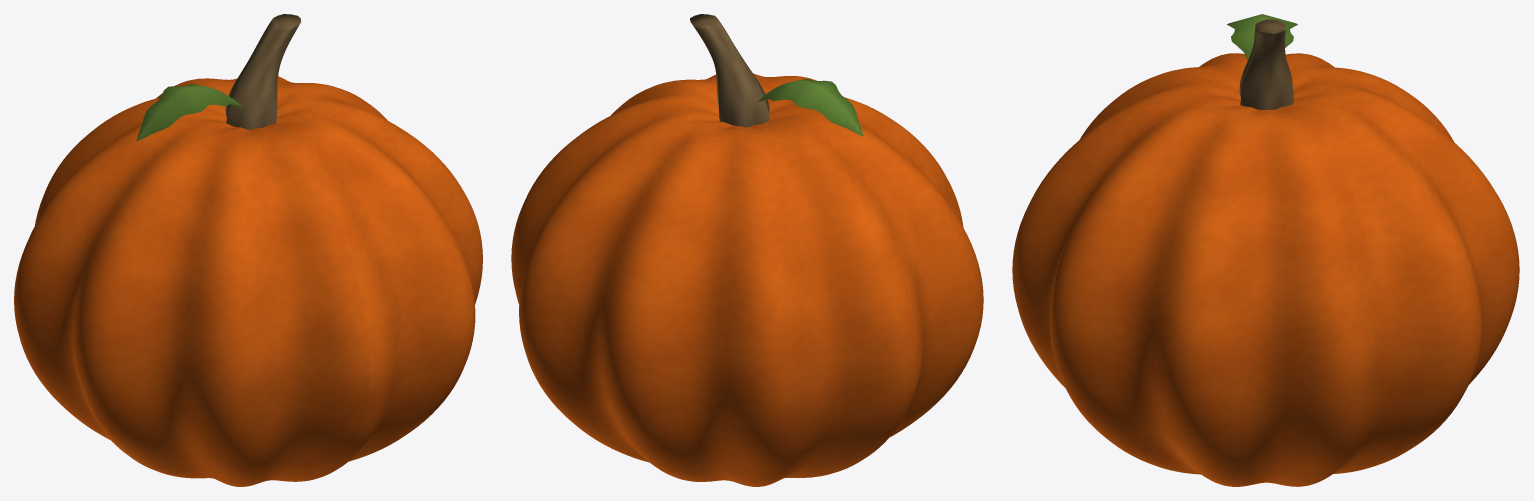
File: pumpkin-higgsfield.glb
3 renders of one model, left to right at view 1: azimuth 30°, elevation 25°; view 2: azimuth 150°, elevation 25°; view 3: azimuth 270°, elevation 25°, orthographic. The views are drawn at different scales.
Parts seen in each view (by area): view 1: pumpkin-shell, pumpkin-stem, pumpkin-leaf; view 2: pumpkin-shell, pumpkin-stem, pumpkin-leaf; view 3: pumpkin-shell, pumpkin-stem, pumpkin-leaf.
Boxes of the visible parts, x1,y1,x2,y2 form: pumpkin-shell: (14, 76, 482, 486); pumpkin-stem: (225, 14, 300, 129); pumpkin-leaf: (136, 84, 242, 141); pumpkin-shell: (511, 73, 983, 486); pumpkin-stem: (690, 14, 769, 127); pumpkin-leaf: (758, 78, 863, 136); pumpkin-shell: (1012, 53, 1519, 486); pumpkin-stem: (1239, 19, 1293, 109); pumpkin-leaf: (1227, 14, 1297, 60).
Size of the model in its own units: 2.05 by 2.08 by 2.14.
3 materials, 1 textured.
